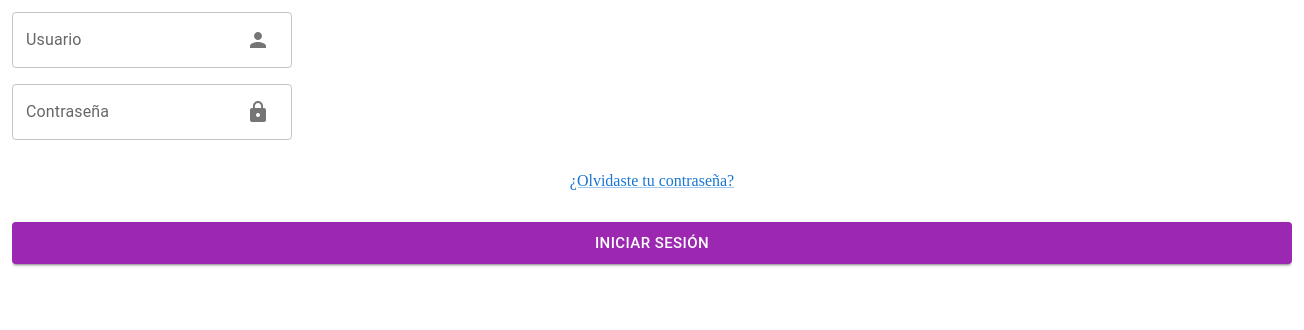
it: <LoginForm /> › muest show required msg in username & password inputs
Click the button "Iniciar sesión" at (652, 243), box [12, 222, 1292, 264]
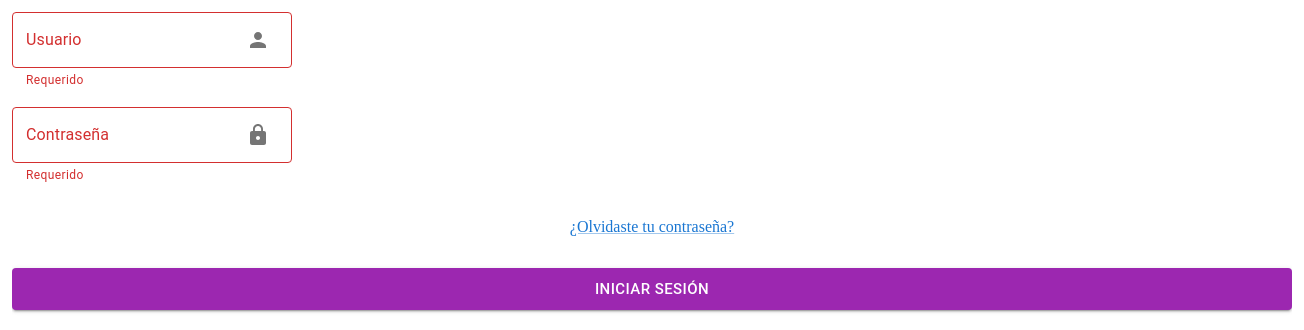
Expected: the text "Requerido" is shown 2 times, [26, 73, 84, 87]; [26, 168, 84, 182]
